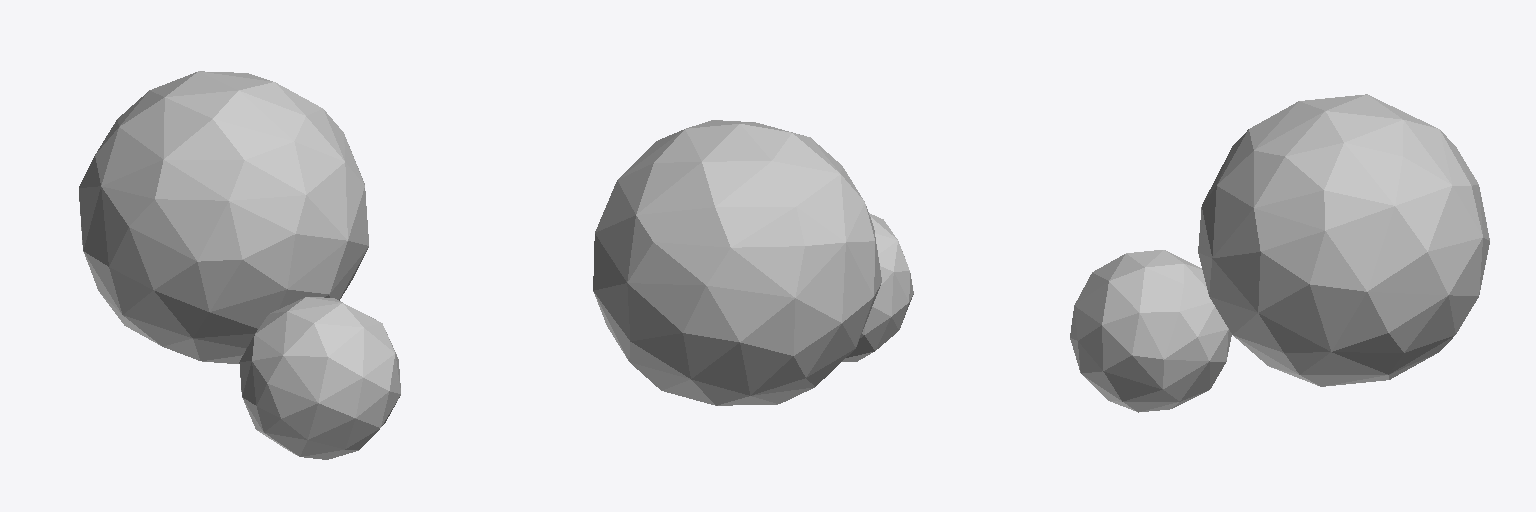
File: scene_lightgreen.obj
The picture shows the model from 3 angles: view 1: azimuth 30°, elevation 25°; view 2: azimuth 150°, elevation 25°; view 3: azimuth 270°, elevation 25°; orthographic projection.
Visible parts, largest first — view 1: Icosphere_Icosphere.002, Icosphere.001_Icosphere.003; view 2: Icosphere_Icosphere.002, Icosphere.001_Icosphere.003; view 3: Icosphere_Icosphere.002, Icosphere.001_Icosphere.003.
Part boxes in pixels (bbox=[...]): Icosphere_Icosphere.002: bbox=[79, 71, 368, 363]; Icosphere.001_Icosphere.003: bbox=[239, 297, 400, 459]; Icosphere_Icosphere.002: bbox=[593, 120, 881, 405]; Icosphere.001_Icosphere.003: bbox=[842, 213, 913, 361]; Icosphere_Icosphere.002: bbox=[1198, 94, 1489, 386]; Icosphere.001_Icosphere.003: bbox=[1070, 250, 1231, 412].
Size of the model in its own units: 1.82 by 2.03 by 2.62.